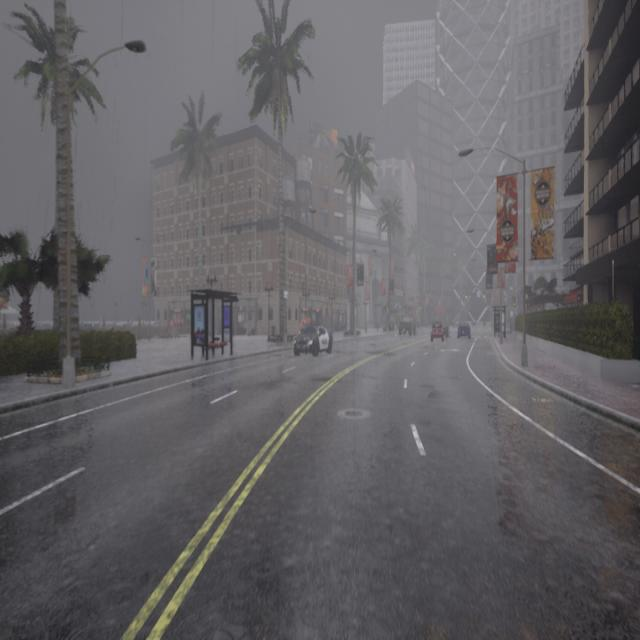9: (513, 295, 516, 309), (465, 289, 468, 301), (483, 288, 486, 300)
bien_hieu_lenh: (483, 293, 486, 299), (465, 295, 468, 299), (513, 302, 515, 307)
